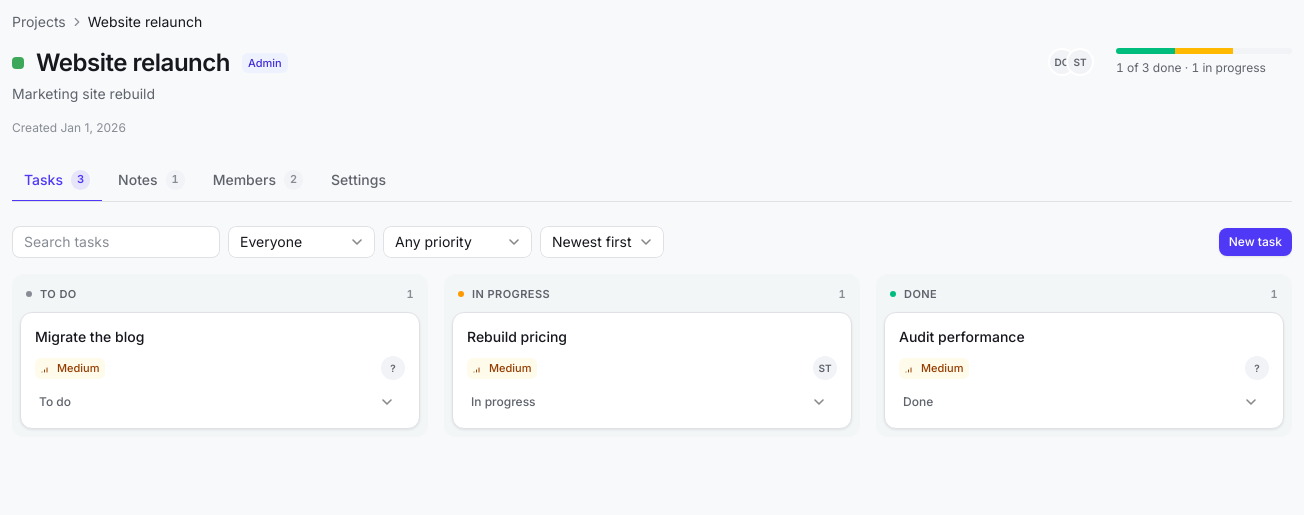
ProjectDetail › offers a way back from a filter that matches nothing
Check: the button "Migrate the blog" is shown, box [35,327,405,346]
Type "zzzz" into the search field labelled "Search tasks" at [116, 242], box [12,226,220,258]
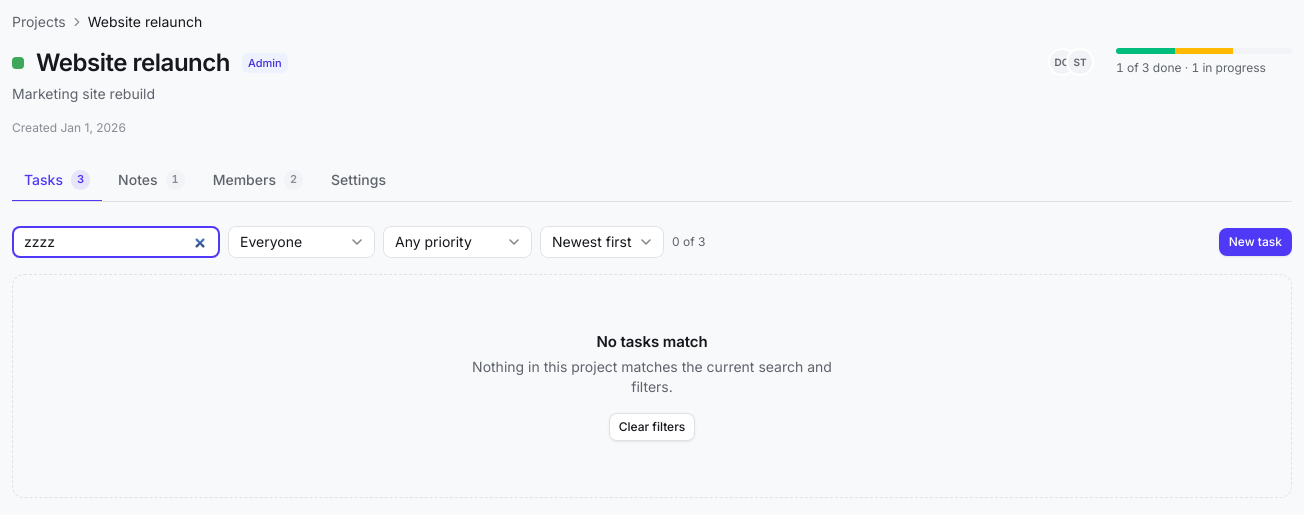
Check: the text "No tasks match" is shown, box [596,332,708,351]
Click the button "Clear filters" at [652, 427], box [609,413,695,441]
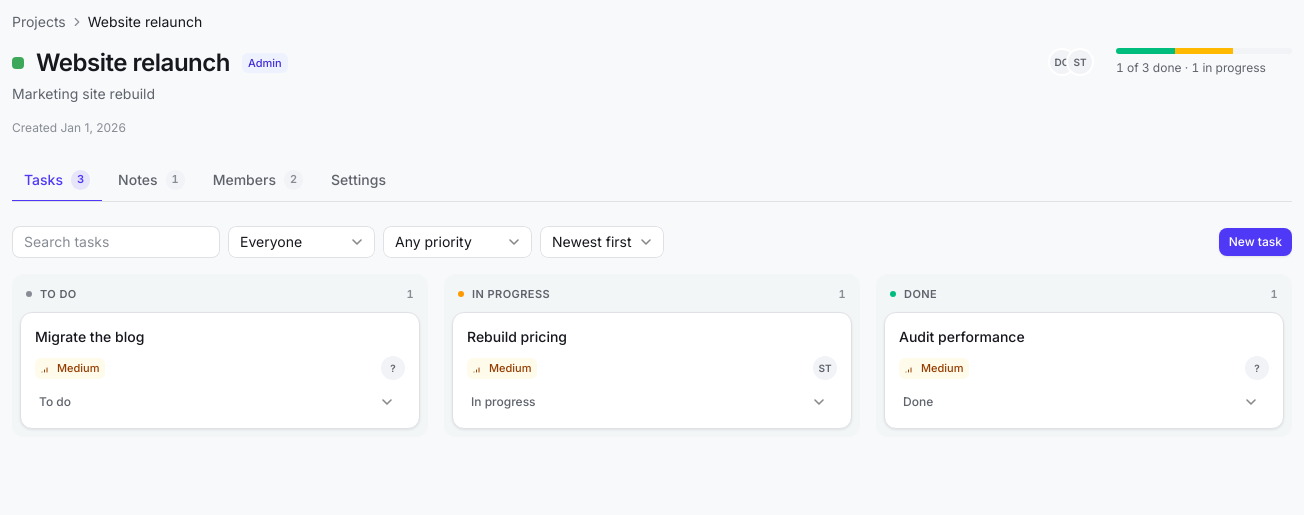
Check: the button "Migrate the blog" is shown, box [35,327,405,346]
Check: the button "Rebuild pricing" is shown, box [467,327,837,346]
